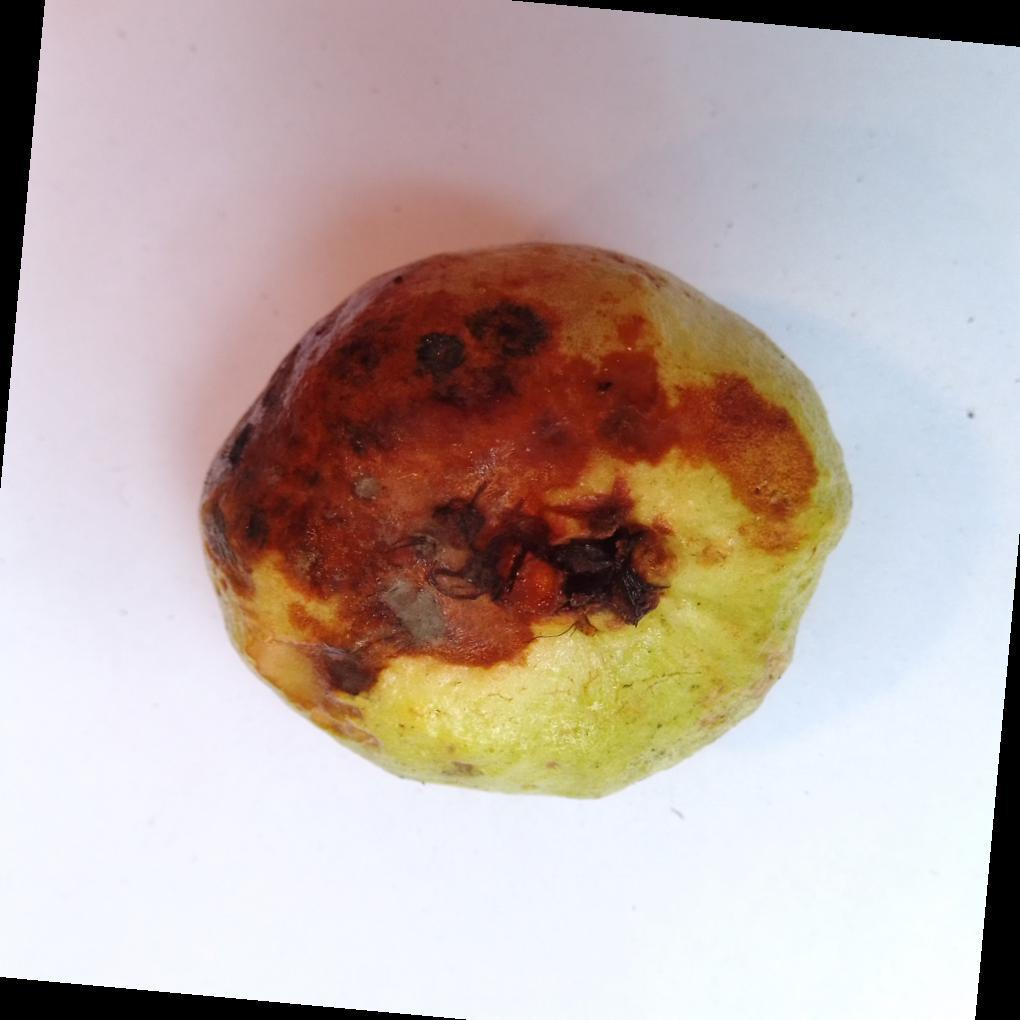FreshOrange: (196, 244, 854, 804)
